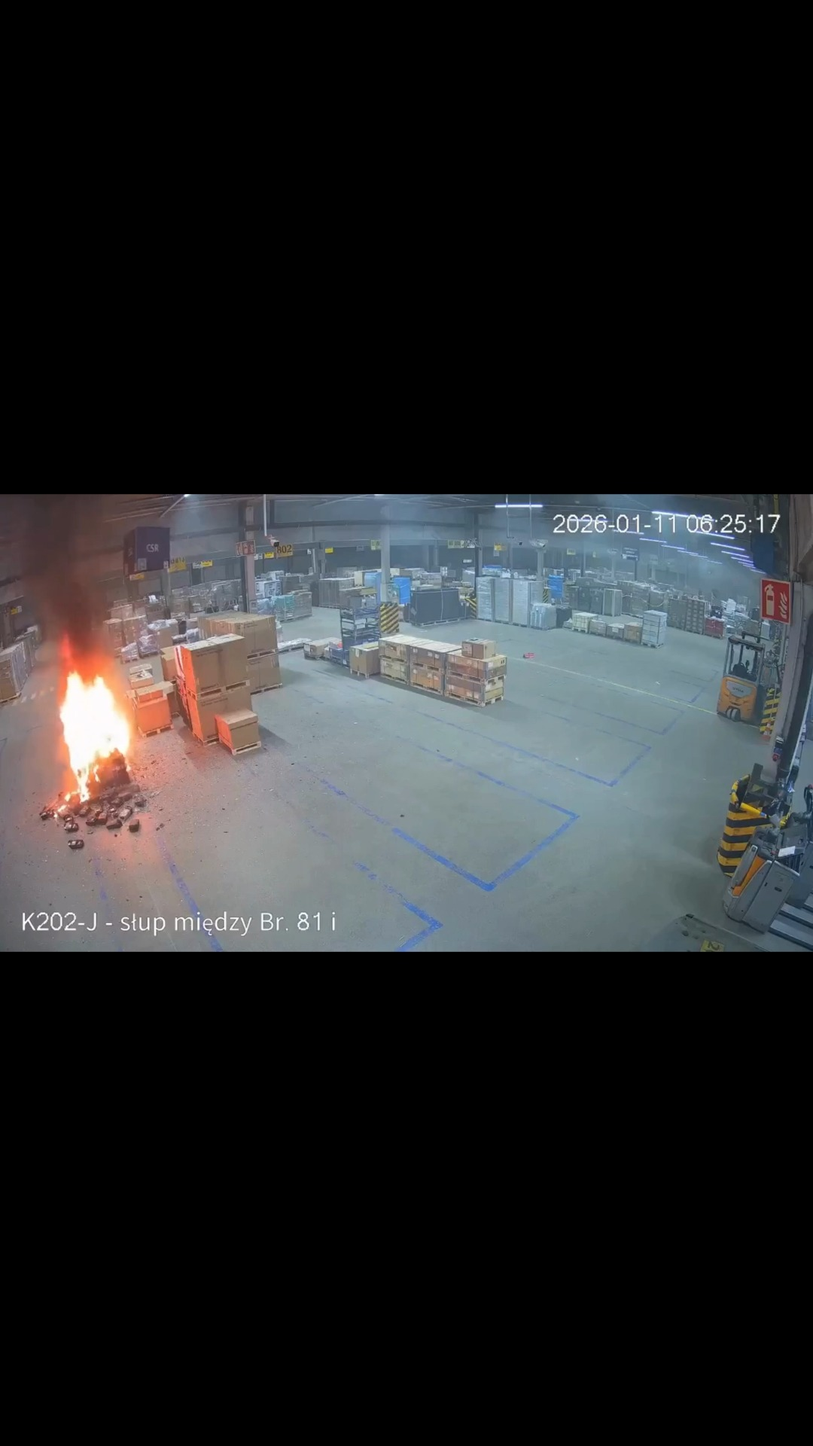fire: (50, 632, 135, 813)
smoke: (0, 495, 136, 679)
